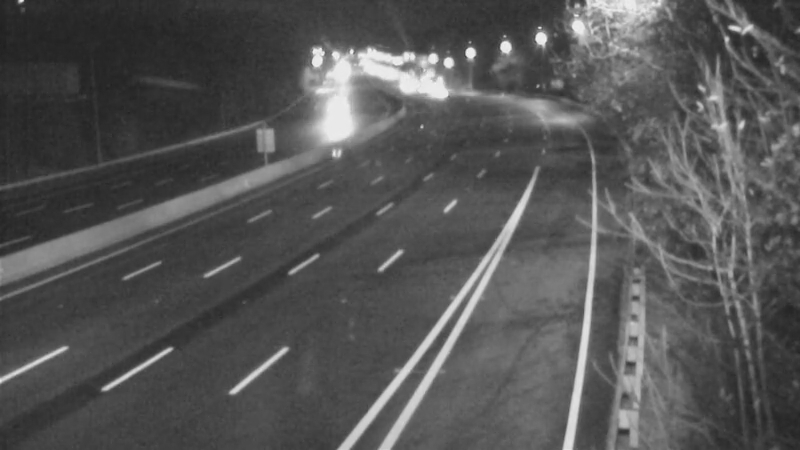vehicle: (412, 72, 462, 122), (307, 87, 357, 137)
